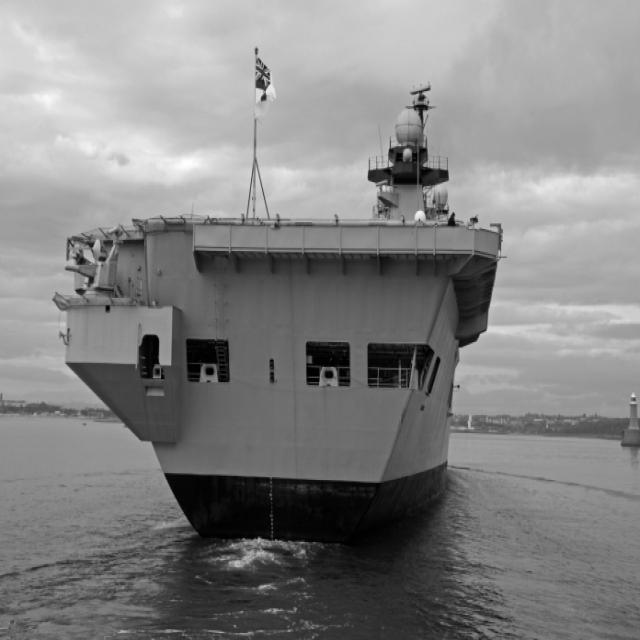Portanaves: (59, 10, 517, 563)
